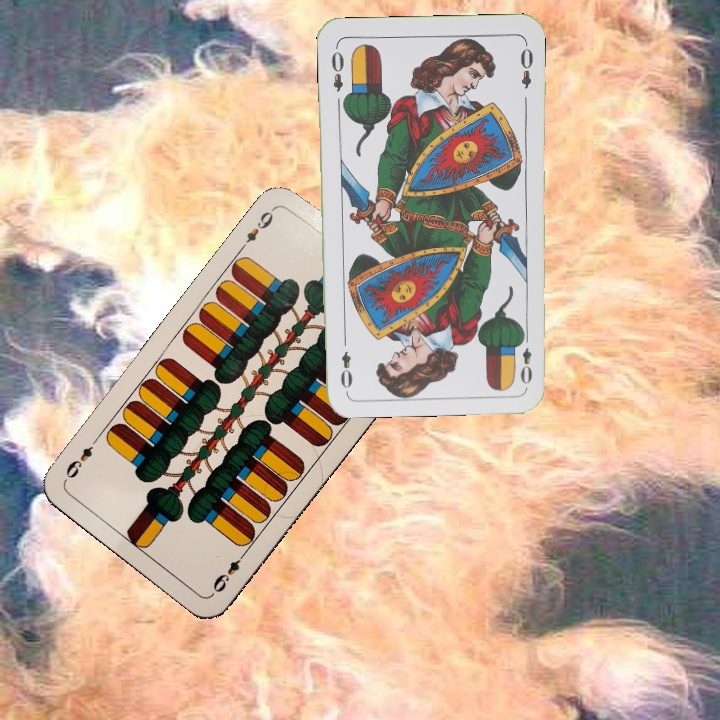E9: (208, 547, 250, 597), (237, 202, 279, 252)
EO: (516, 328, 535, 387), (327, 48, 346, 95)
